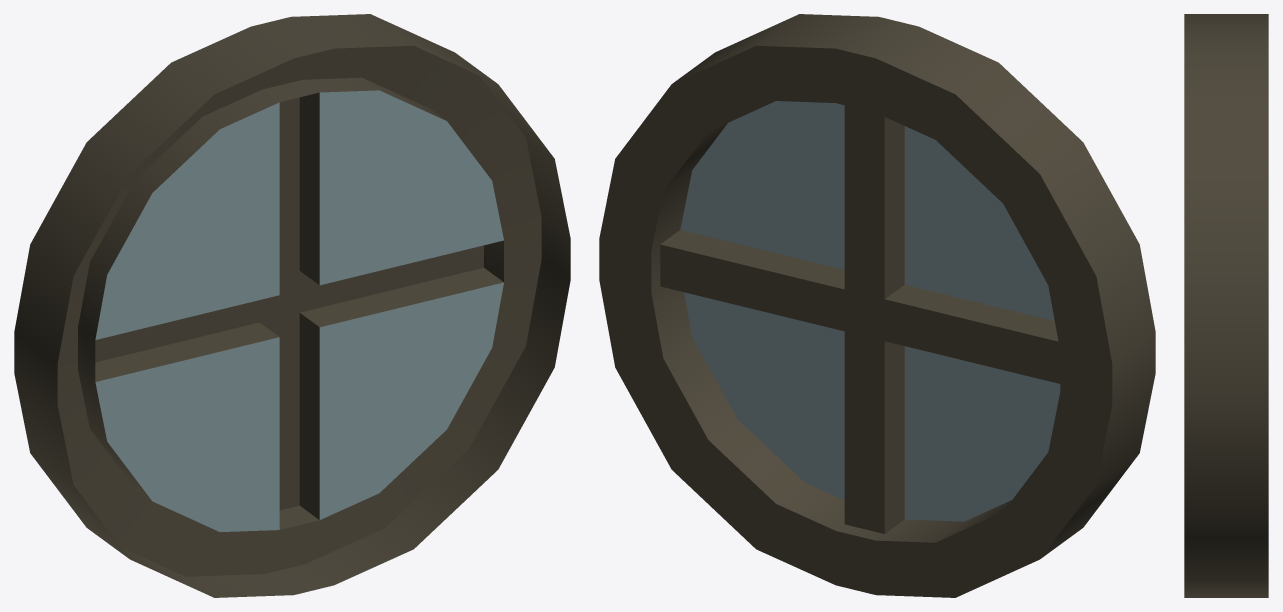
File: WindowR.fbx
3 views of the same model, side by side, from view 1: azimuth 30°, elevation 25°; view 2: azimuth 150°, elevation 25°; view 3: azimuth 270°, elevation 25° (orthographic). The views are drawn at different scales.
Parts seen in each view (by area): view 1: WindowR; view 2: WindowR; view 3: WindowR.
Boxes of the visible parts, left/top/right/bottom form: WindowR: left=14, top=14, right=570, bottom=597; WindowR: left=599, top=14, right=1155, bottom=597; WindowR: left=1184, top=14, right=1268, bottom=597.
Size of the model in its own units: 102 by 15 by 102.
